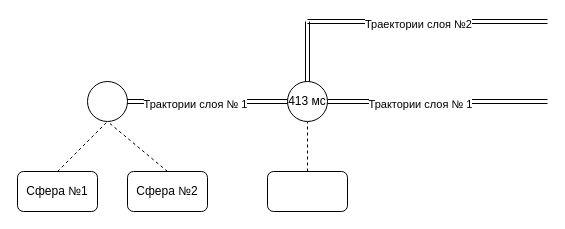
Image size: 565x229. Some labels were removed from this diagram. Each missing label, with the centre of its shape:
0 мс: (x=107, y=101)
Сфера №3: (x=307, y=191)
